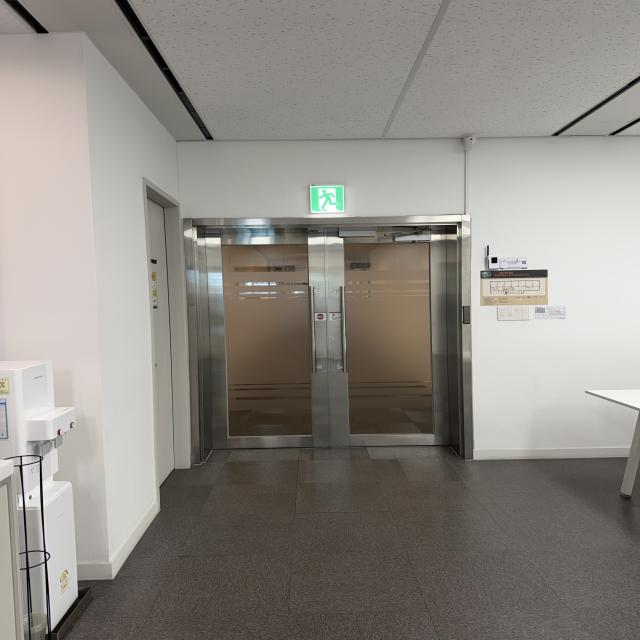rear_door: (196, 223, 461, 450)
